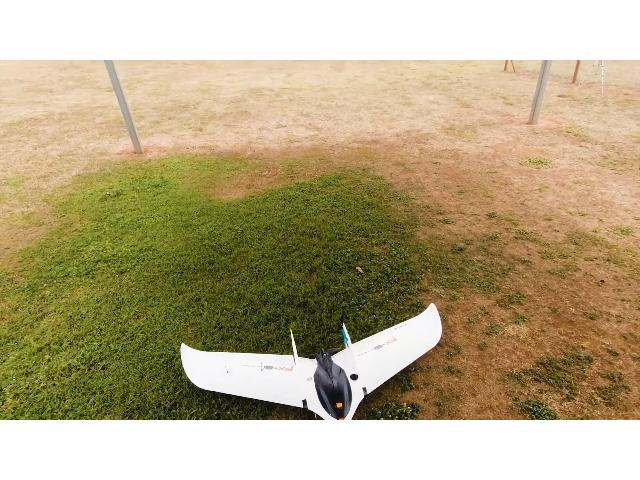Anti-Drone: (146, 284, 502, 420)
